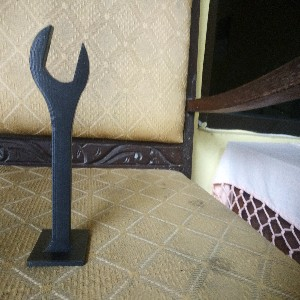spanner: (27, 23, 91, 268)
